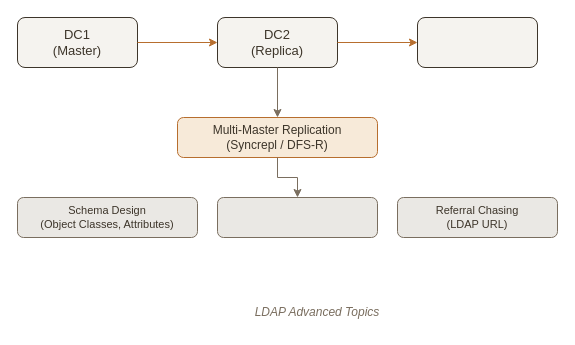
This 575x345 diagram has some shape labels left out. Each missing label, with the box of its shape:
DC3 (Replica): (416, 16, 538, 68)
Indexing (Equality, Substring): (216, 196, 378, 238)
